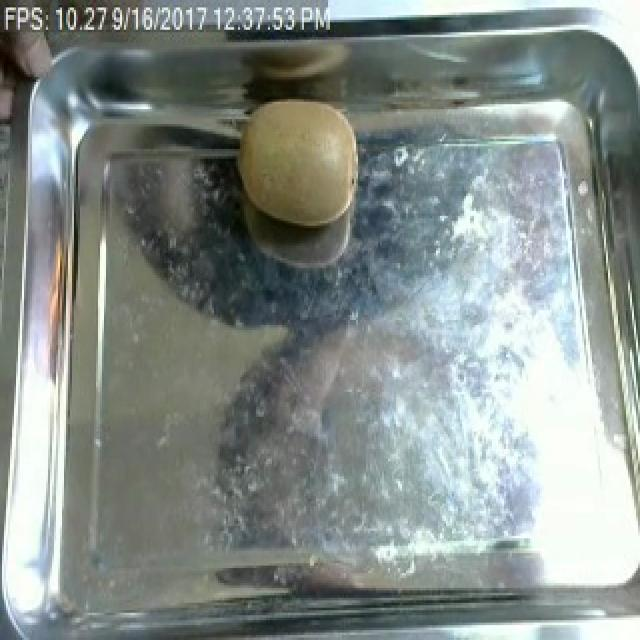Fruit: (228, 87, 368, 233)
